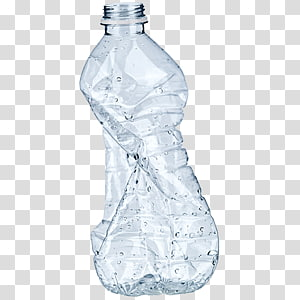plastic_bottle: (44, 1, 240, 300)
